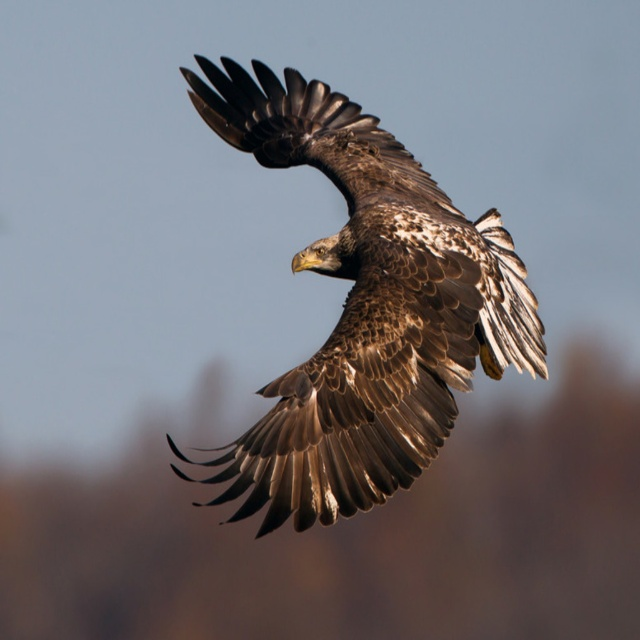Eagle: (166, 54, 548, 541)
